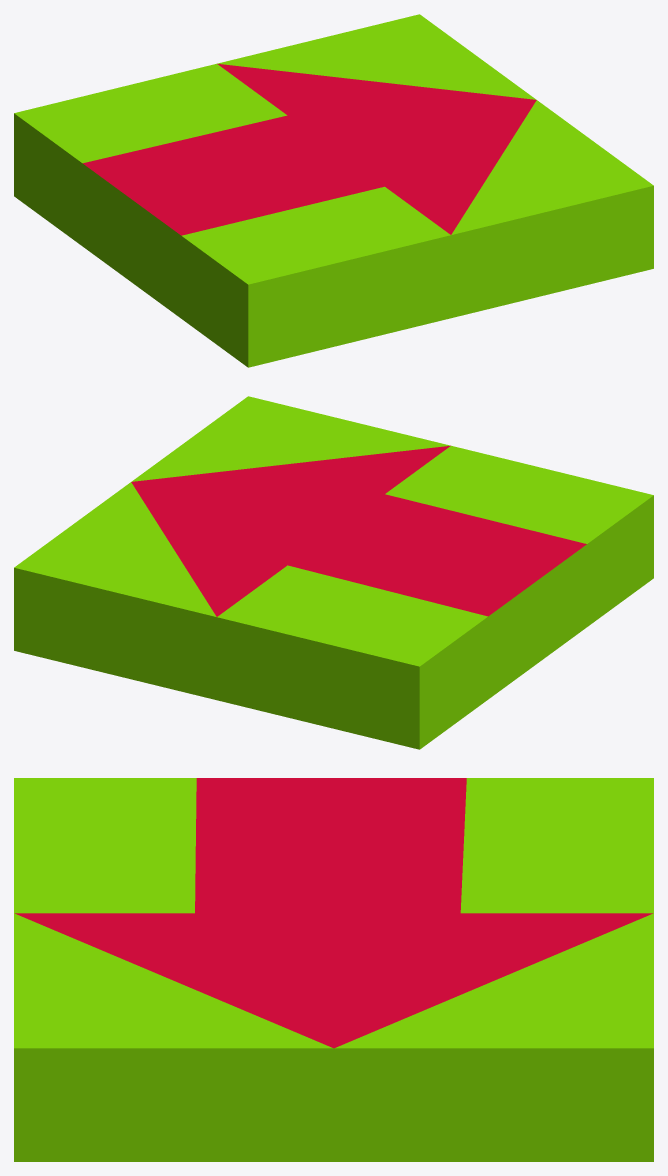
The model's file is acceleration.fbx.
The picture shows the model from 3 angles, top to bottom: view 1: azimuth 30°, elevation 25°; view 2: azimuth 150°, elevation 25°; view 3: azimuth 270°, elevation 25°; orthographic projection. The views are drawn at different scales.
Parts seen in each view (by area): view 1: pCube1; view 2: pCube1; view 3: pCube1.
Part boxes in pixels (x1,y1,x2,y2): pCube1: (14,14,653,367); pCube1: (14,396,653,749); pCube1: (14,778,653,1161).
Size of the model in its own units: 6.06 by 1.19 by 6.06.
